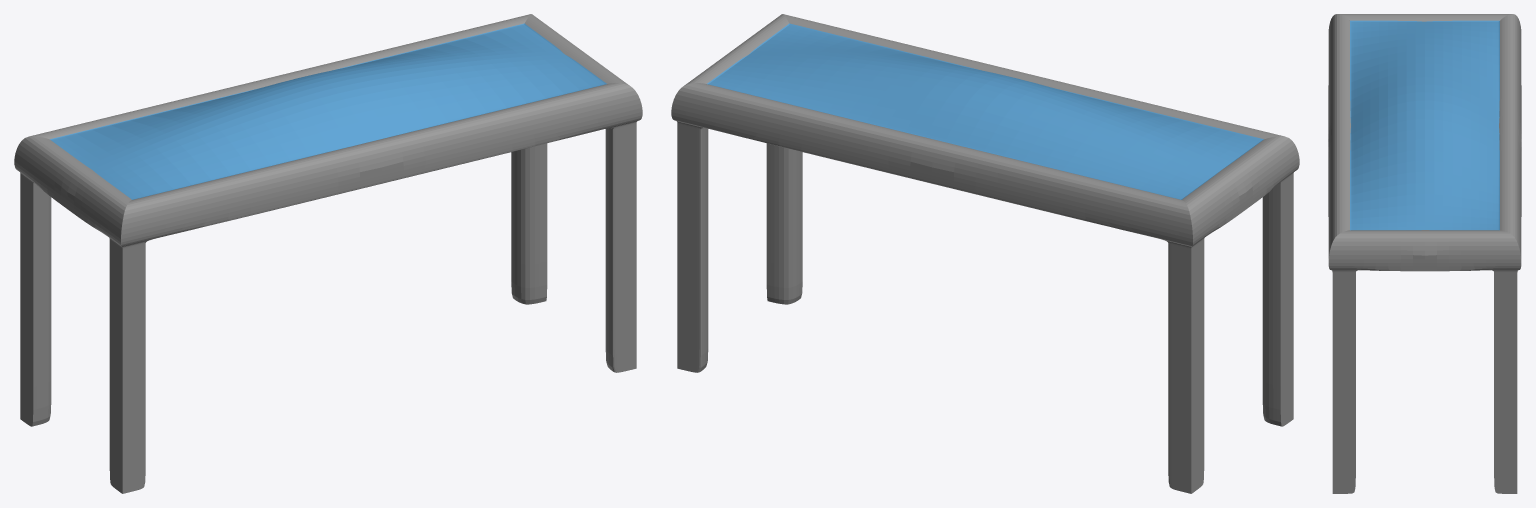
Rendered from Bus_Wait.fbx.
3 views of the same model, side by side, from view 1: azimuth 30°, elevation 25°; view 2: azimuth 150°, elevation 25°; view 3: azimuth 270°, elevation 25° (orthographic). The views are drawn at different scales.
Visible parts, largest first — view 1: Bus_Wait; view 2: Bus_Wait; view 3: Bus_Wait.
Boxes of the visible parts, box(x1,y1,x2,y2) form: Bus_Wait: box(14, 14, 642, 493); Bus_Wait: box(671, 14, 1299, 493); Bus_Wait: box(1328, 14, 1521, 493).
Bounding box in the file's own units: 1947 × 1105 × 690.
